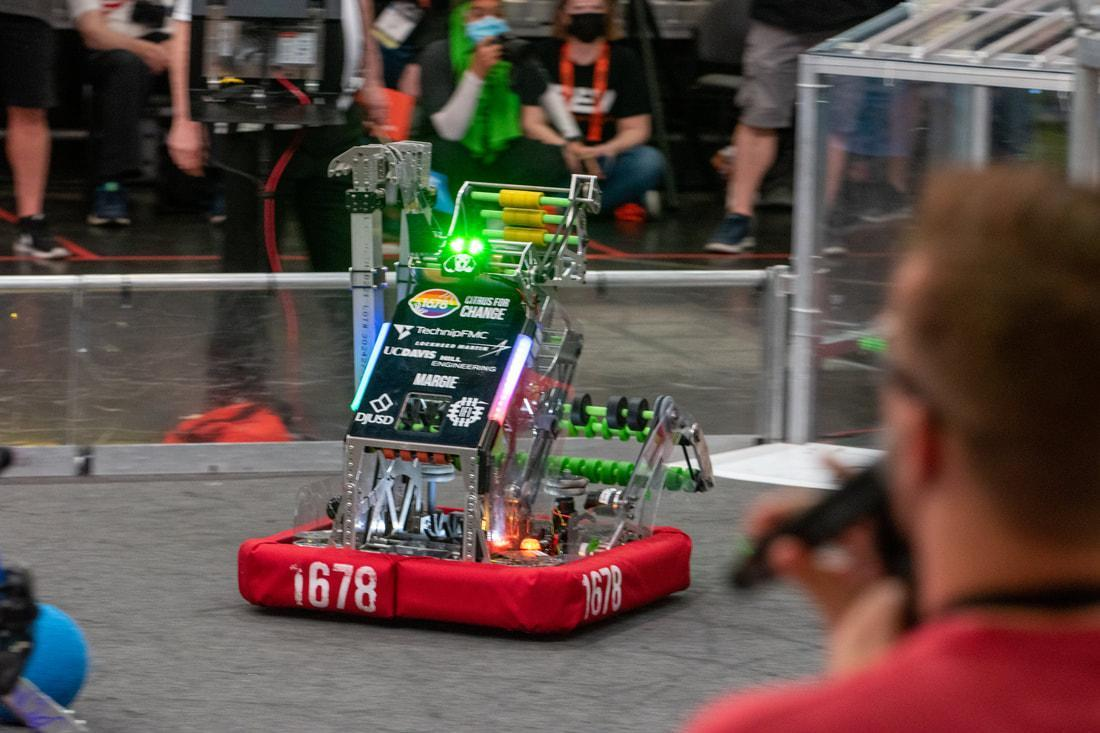robot: (232, 139, 720, 638)
